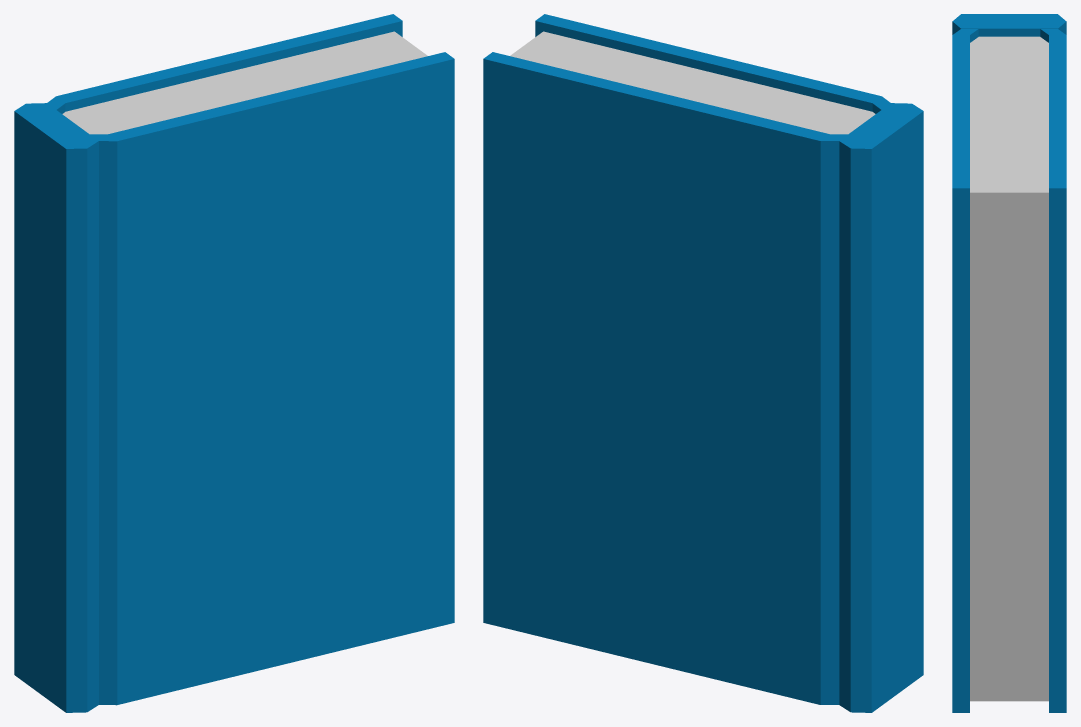
3 renders of one model, left to right at view 1: azimuth 30°, elevation 25°; view 2: azimuth 150°, elevation 25°; view 3: azimuth 270°, elevation 25°, orthographic. The views are drawn at different scales.
Parts seen in each view (by area): view 1: node_MeshObject-974351296-PolyPaper5; view 2: node_MeshObject-974351296-PolyPaper5; view 3: node_MeshObject-974351296-PolyPaper5.
Part boxes in pixels (x1=…): node_MeshObject-974351296-PolyPaper5: x1=14, y1=14, x2=454, y2=712; node_MeshObject-974351296-PolyPaper5: x1=483, y1=14, x2=923, y2=712; node_MeshObject-974351296-PolyPaper5: x1=952, y1=14, x2=1066, y2=712.
Size of the model in its own units: 0.47 by 0.6601 by 0.1301.
